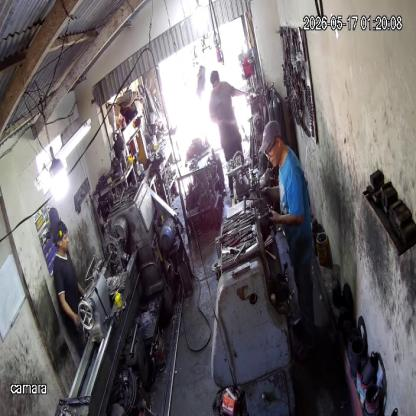lentes: (265, 144, 279, 161)
